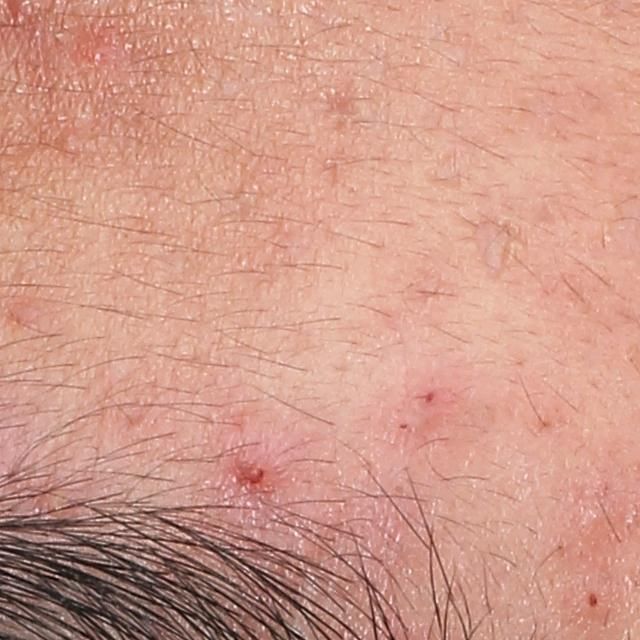comedo: (581, 589, 602, 611)
